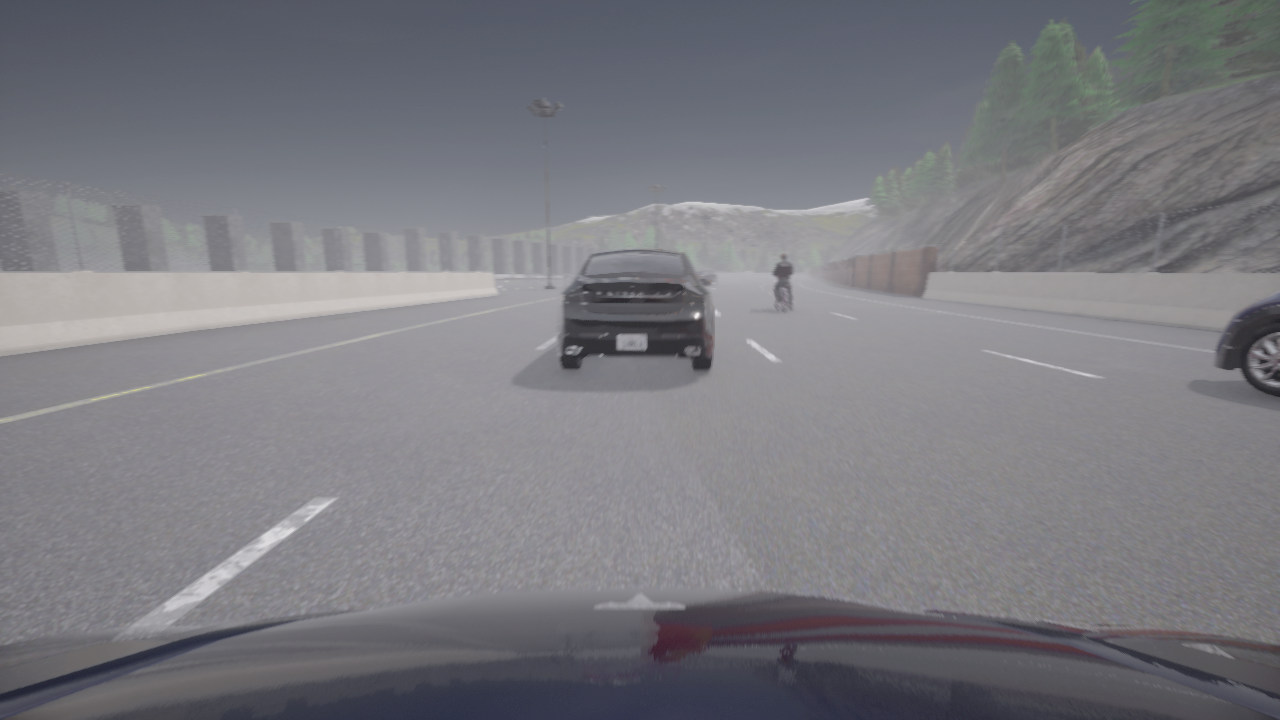cyclist: (0, 588, 1279, 719), (557, 248, 713, 371), (1213, 291, 1279, 397), (696, 270, 718, 285), (775, 286, 787, 311)
